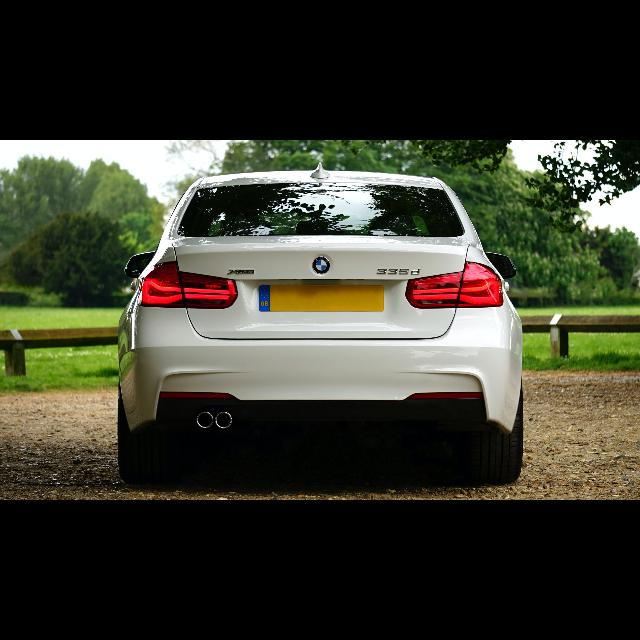cars: (100, 158, 532, 492)
